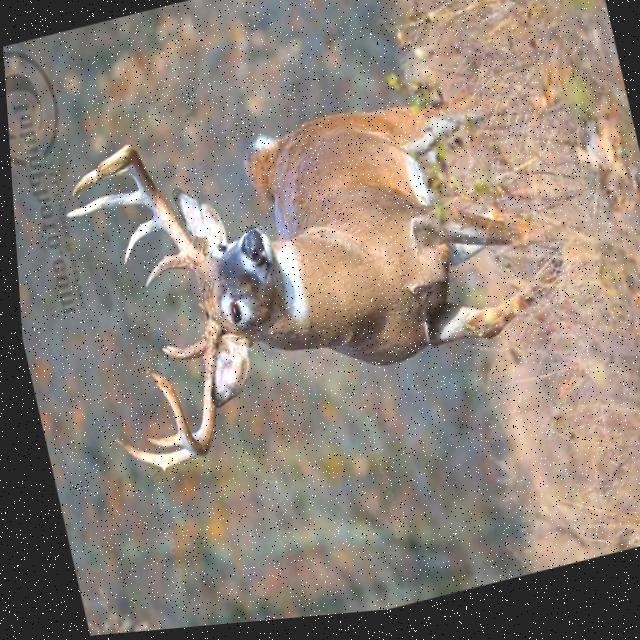L-F: (144, 323, 216, 462)
L-G1: (156, 341, 199, 365)
L-G3: (108, 437, 188, 474)
R-F: (89, 145, 198, 268)
R-G1: (141, 255, 189, 290)
R-G2: (120, 220, 159, 267)
R-G3: (63, 191, 139, 220)
